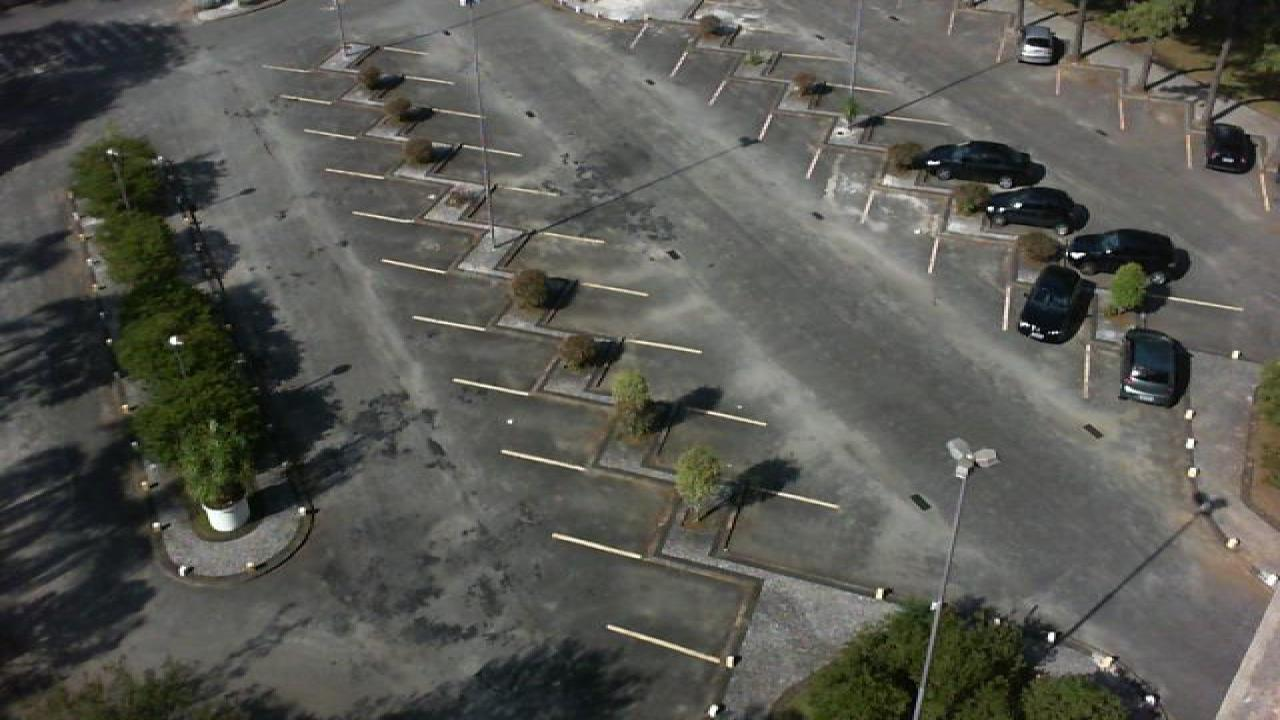Car: (910, 139, 1048, 189), (1064, 226, 1192, 279), (1016, 262, 1096, 346), (1116, 327, 1194, 408), (980, 186, 1092, 235), (1204, 122, 1260, 174), (1016, 25, 1066, 66)
